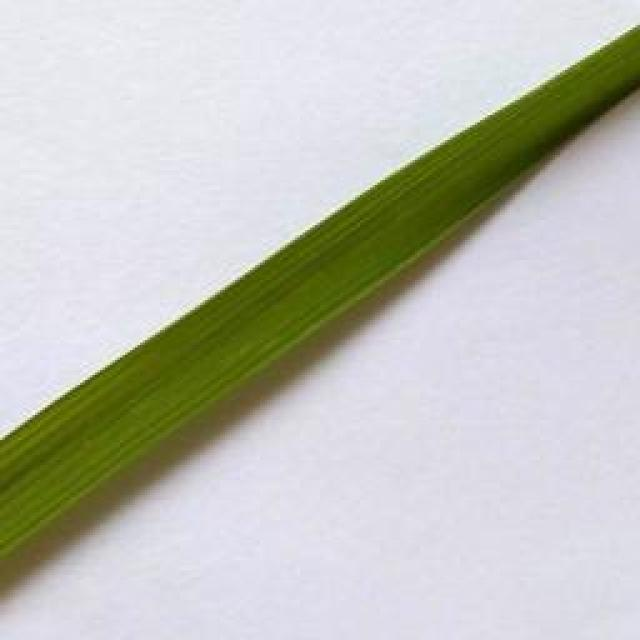Healthy-Plant: (0, 24, 640, 560)
